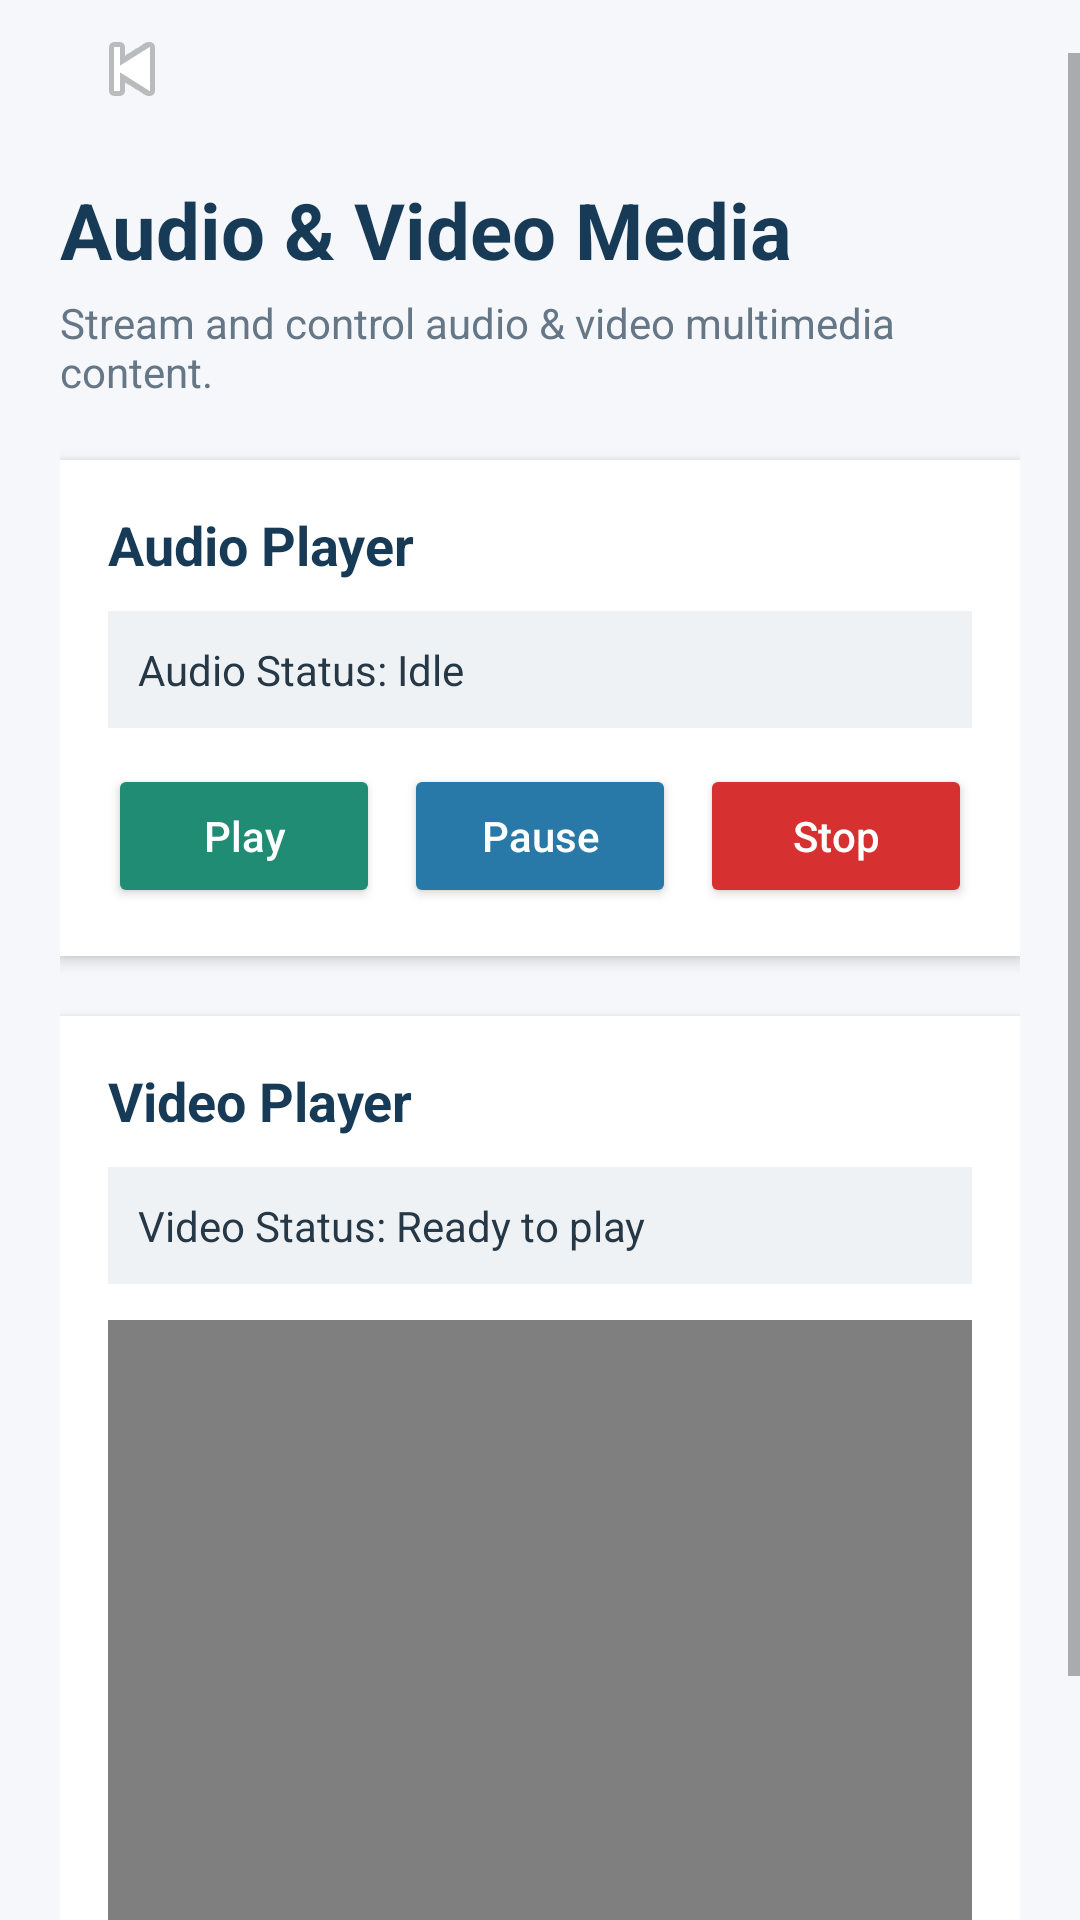

Named icons in this screenshot (1080 × 1920) and their centers, [x,y]:
Go back: [132,69]
